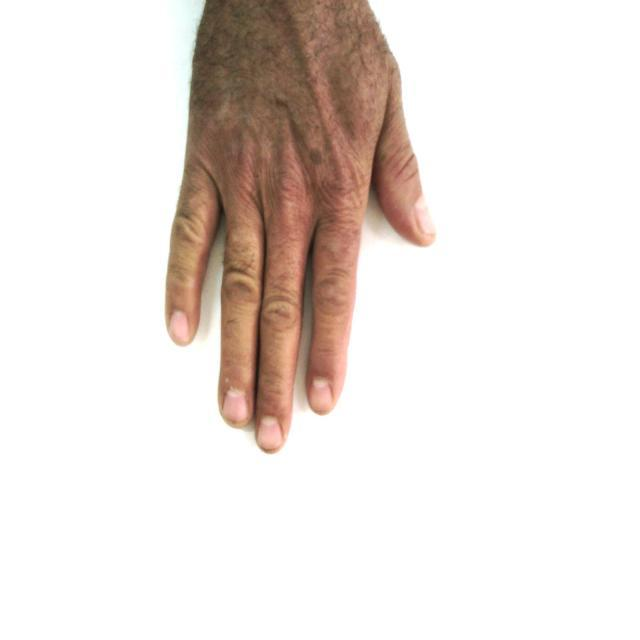Fingernail: (258, 417, 282, 450), (224, 391, 248, 422), (310, 379, 332, 412), (416, 201, 435, 236), (170, 312, 190, 344)
